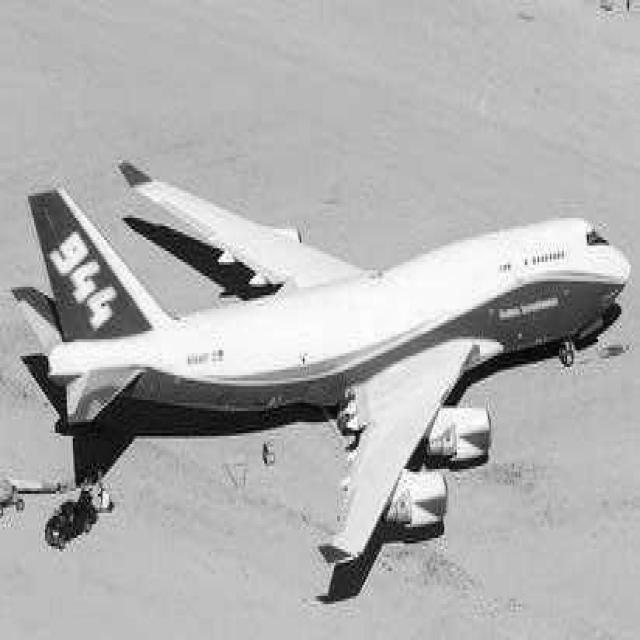Aircraft: (22, 156, 631, 584)
